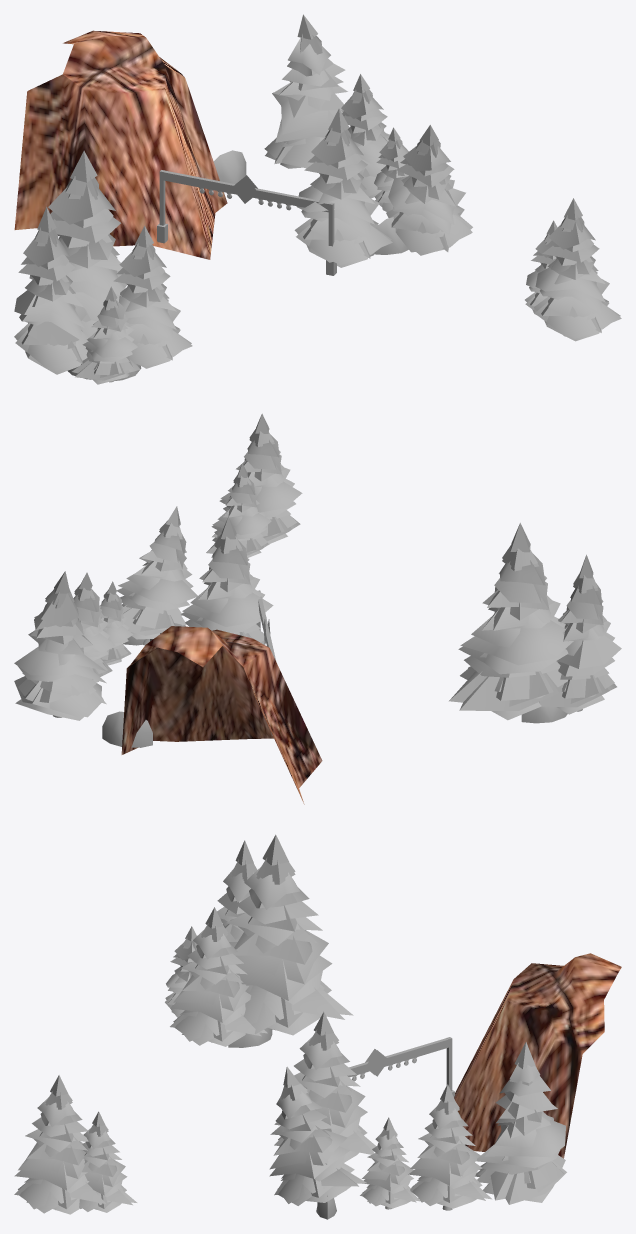
File: Zone_01.fbx
The picture shows the model from 3 angles, top to bottom: view 1: azimuth 30°, elevation 25°; view 2: azimuth 150°, elevation 25°; view 3: azimuth 270°, elevation 25°; orthographic projection. The views are drawn at different scales.
Visible parts, largest first — view 1: polymsh60; view 2: polymsh60; view 3: polymsh60.
Boxes of the visible parts, left/top/right/bottom form: polymsh60: left=14, top=14, right=621, bottom=384; polymsh60: left=14, top=413, right=621, bottom=804; polymsh60: left=14, top=834, right=621, bottom=1219.
Bounding box in the file's own units: 35.32 × 14.62 × 37.64.
